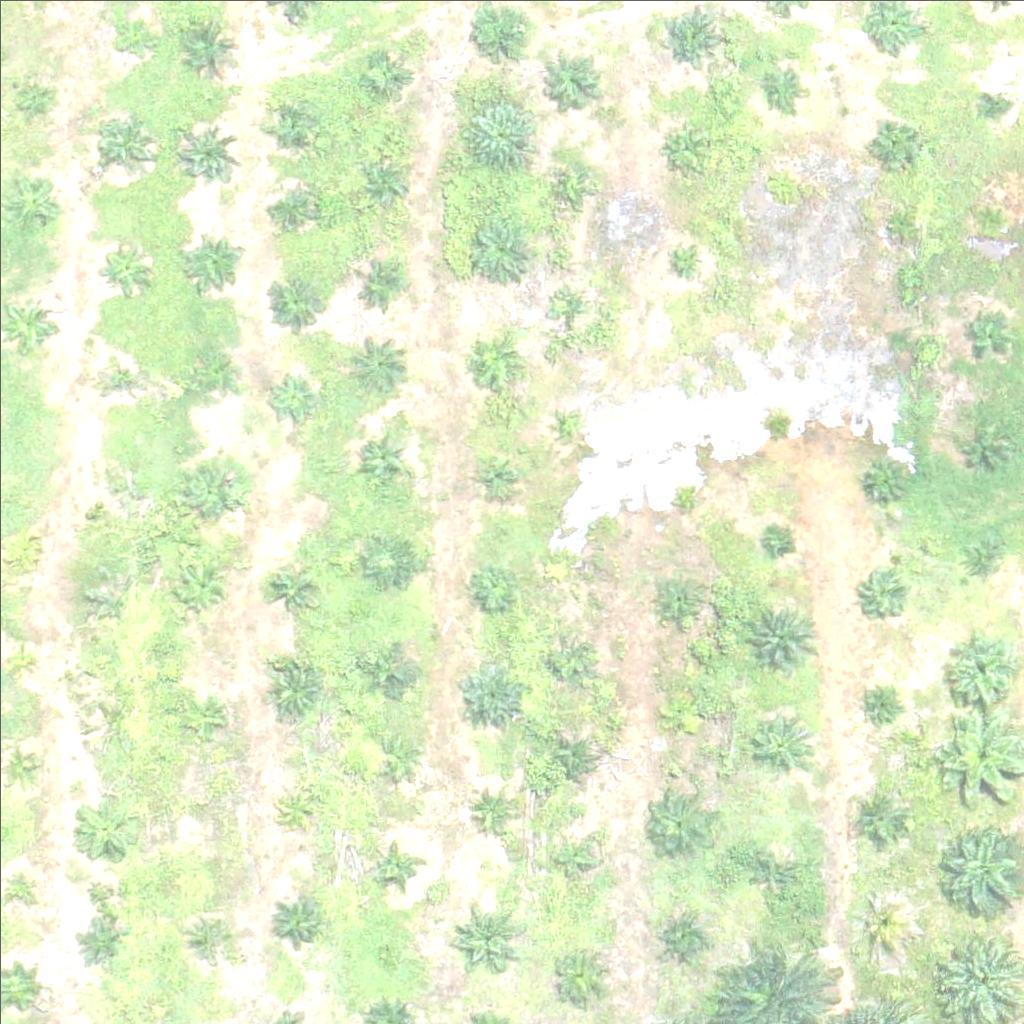Kelapa_Sawit: (931, 929, 1019, 1018), (465, 211, 540, 287), (461, 97, 536, 173), (744, 599, 819, 675), (544, 51, 607, 114), (2, 169, 65, 232), (659, 5, 722, 68), (343, 331, 406, 394), (458, 898, 521, 961), (552, 944, 615, 1007), (185, 460, 248, 523), (456, 662, 519, 725), (541, 827, 604, 890), (264, 262, 327, 325), (181, 224, 243, 287), (180, 11, 242, 74), (93, 110, 155, 173), (177, 127, 239, 190), (649, 789, 711, 852), (749, 710, 811, 773), (262, 658, 324, 721), (168, 557, 230, 620), (72, 797, 134, 860), (745, 840, 807, 903), (99, 243, 149, 294), (868, 121, 918, 172), (362, 535, 412, 586), (364, 653, 414, 704), (544, 731, 594, 782), (468, 788, 518, 839), (543, 637, 593, 688), (664, 910, 714, 961), (655, 691, 705, 742), (467, 564, 517, 615), (269, 564, 319, 615), (95, 349, 145, 400), (183, 351, 233, 402), (265, 374, 315, 425), (357, 432, 407, 483), (361, 52, 411, 102), (854, 794, 904, 844), (468, 331, 518, 381), (270, 898, 320, 948), (74, 919, 124, 969), (174, 694, 224, 744), (371, 734, 421, 784), (649, 571, 699, 621), (267, 186, 317, 236), (265, 102, 315, 152), (359, 166, 409, 216), (354, 261, 404, 311), (472, 448, 522, 498), (860, 565, 910, 615), (857, 451, 907, 501), (960, 312, 1010, 362), (960, 419, 1010, 469), (953, 533, 1003, 583), (853, 894, 903, 944), (767, 65, 805, 103), (1, 746, 39, 784), (3, 539, 41, 577), (277, 792, 315, 830), (374, 847, 412, 885), (116, 16, 154, 54), (663, 122, 700, 160), (192, 914, 229, 952), (180, 785, 217, 823), (97, 487, 134, 525), (971, 199, 1009, 236), (879, 204, 916, 242), (14, 80, 51, 117), (765, 526, 790, 552), (553, 170, 578, 196), (560, 416, 585, 441), (555, 288, 580, 313), (672, 245, 697, 270), (672, 489, 697, 514), (982, 90, 1007, 115), (864, 691, 889, 716), (766, 300, 791, 325)
